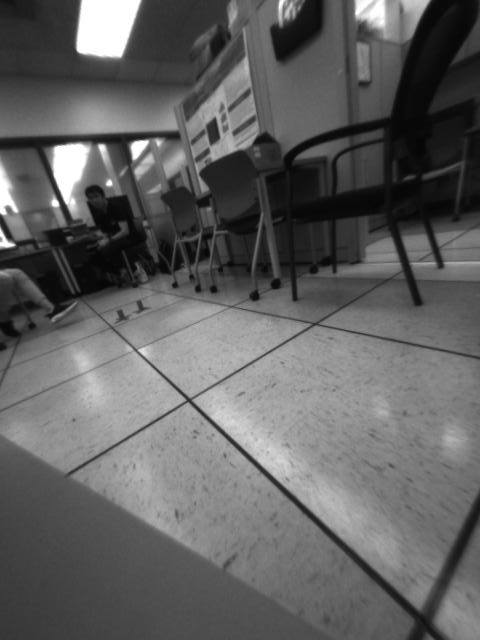X: (110, 306, 132, 324), (129, 296, 151, 314)
